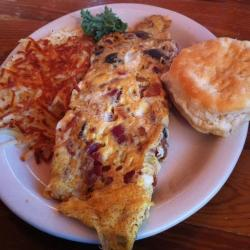bread: (171, 33, 250, 138)
omelette: (74, 20, 164, 246)
